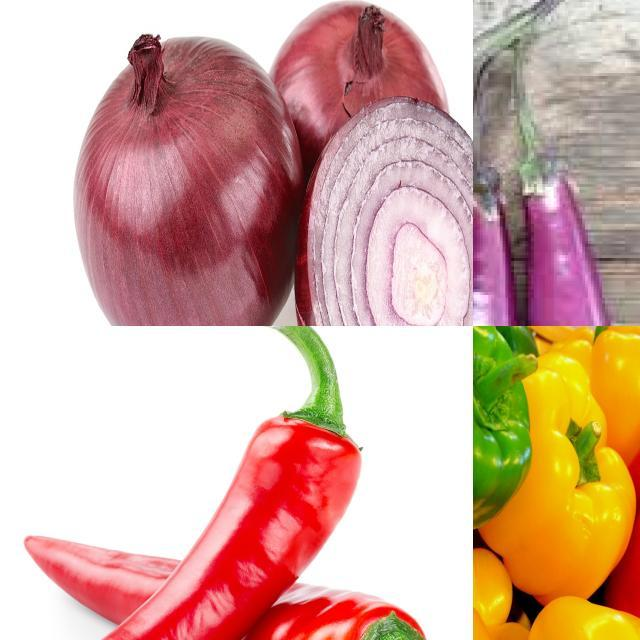bell_pepper: (474, 353, 639, 603), (474, 327, 535, 563), (603, 389, 640, 640)
eggplant: (520, 159, 640, 327)
garlic: (1, 327, 356, 640), (29, 524, 474, 640)
onion: (76, 29, 301, 327), (267, 1, 452, 282), (299, 99, 474, 327)
